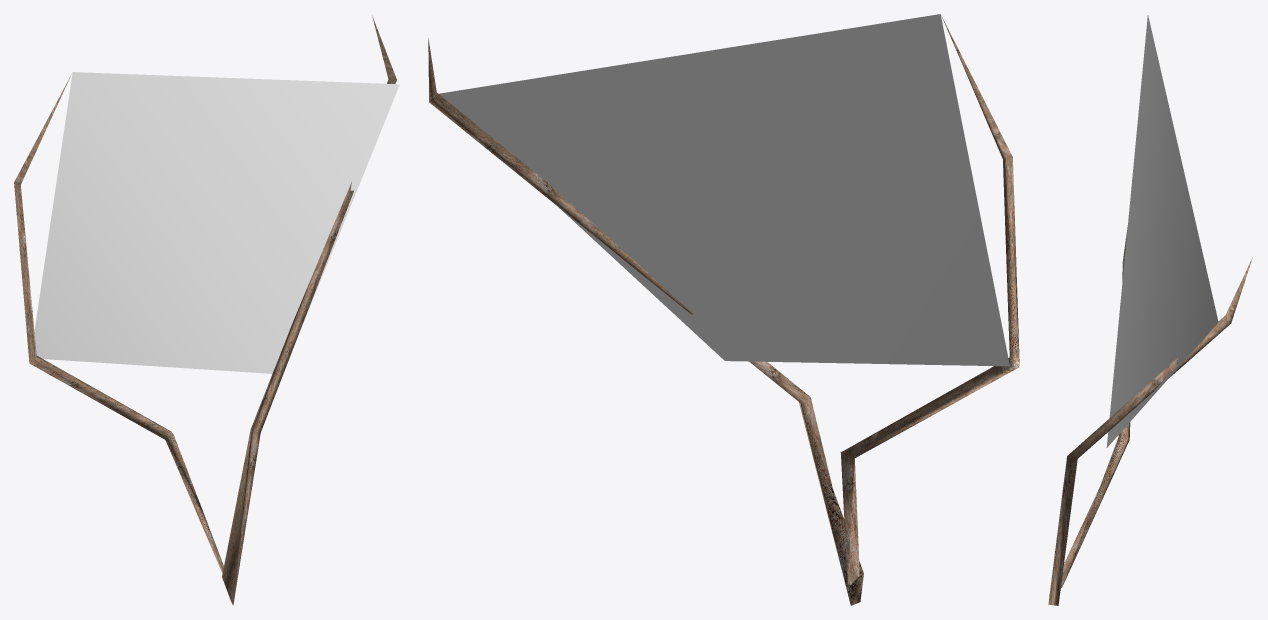
Rendered from poi_lair_web_s03_l1.fbx.
3 views of the same model, side by side, from view 1: azimuth 30°, elevation 25°; view 2: azimuth 150°, elevation 25°; view 3: azimuth 270°, elevation 25° (orthographic). The views are drawn at different scales.
Visible parts, largest first — view 1: mesh_node; view 2: mesh_node; view 3: mesh_node.
Boxes of the visible parts, x1=… form: mesh_node: x1=14, y1=15, x2=399, y2=605; mesh_node: x1=428, y1=14, x2=1019, y2=605; mesh_node: x1=1048, y1=15, x2=1252, y2=605.
Size of the model in its own units: 0.9298 by 1.11 by 0.3871.
